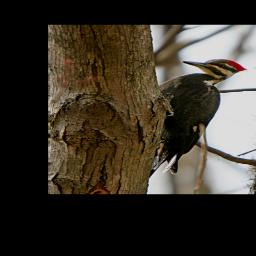Woodpecker: (147, 58, 248, 178)
